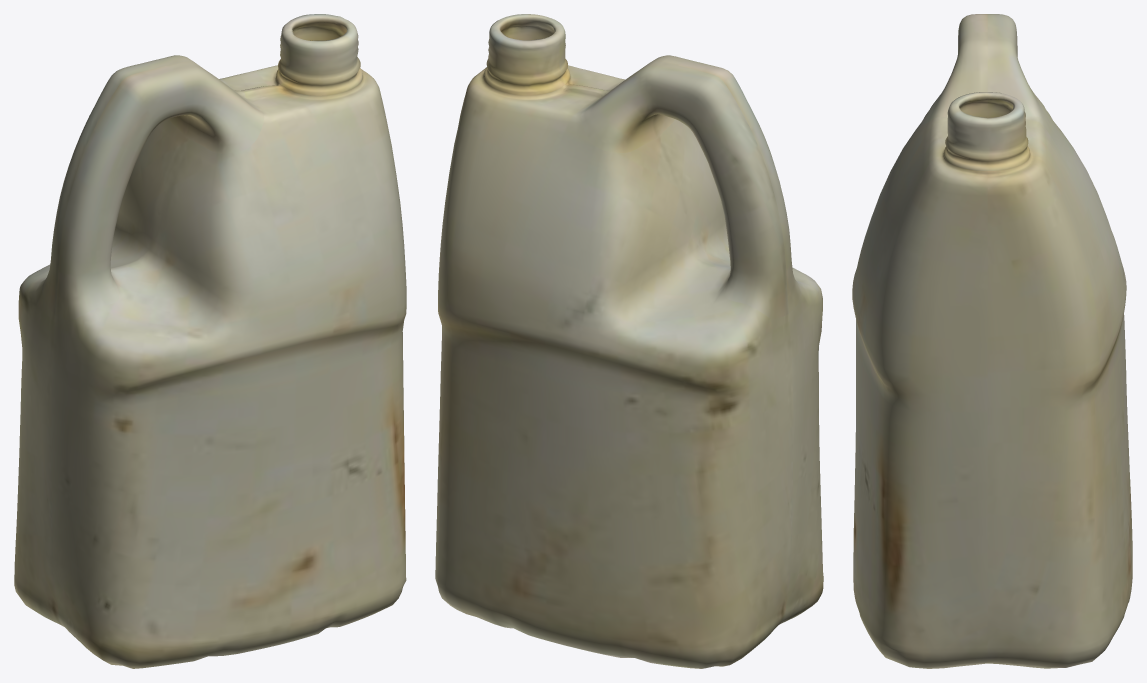
The model's file is plastic_bottle_gallon.gltf.
3 views of the same model, side by side, from view 1: azimuth 30°, elevation 25°; view 2: azimuth 150°, elevation 25°; view 3: azimuth 270°, elevation 25° (orthographic).
Visible parts, largest first — view 1: plastic_bottle_gallon; view 2: plastic_bottle_gallon; view 3: plastic_bottle_gallon.
Part boxes in pixels (left/top/right/bottom): plastic_bottle_gallon: left=14, top=14, right=406, bottom=668; plastic_bottle_gallon: left=435, top=14, right=823, bottom=668; plastic_bottle_gallon: left=852, top=14, right=1132, bottom=668.
Bounding box in the file's own units: 0.1663 × 0.2745 × 0.1264.
